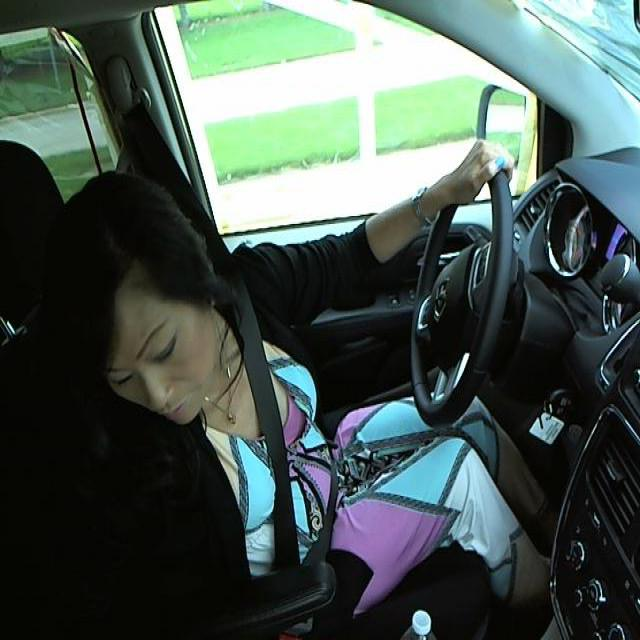seatbelt: (224, 296, 340, 567)
